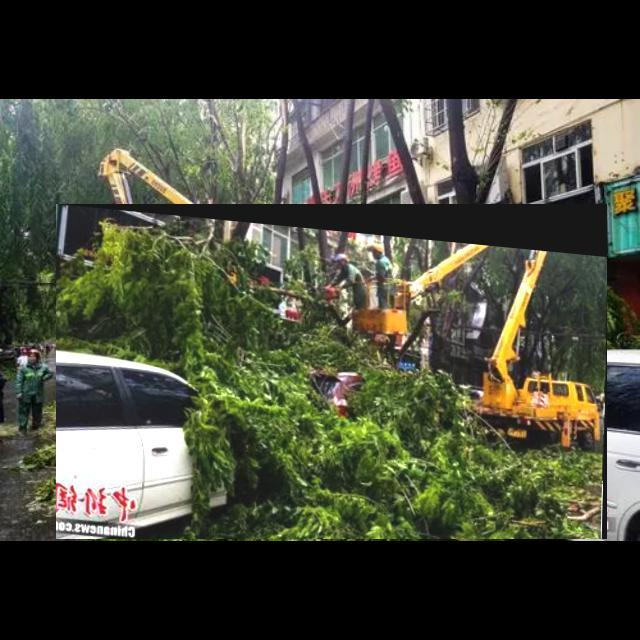fallen_tree: (56, 204, 608, 540)
